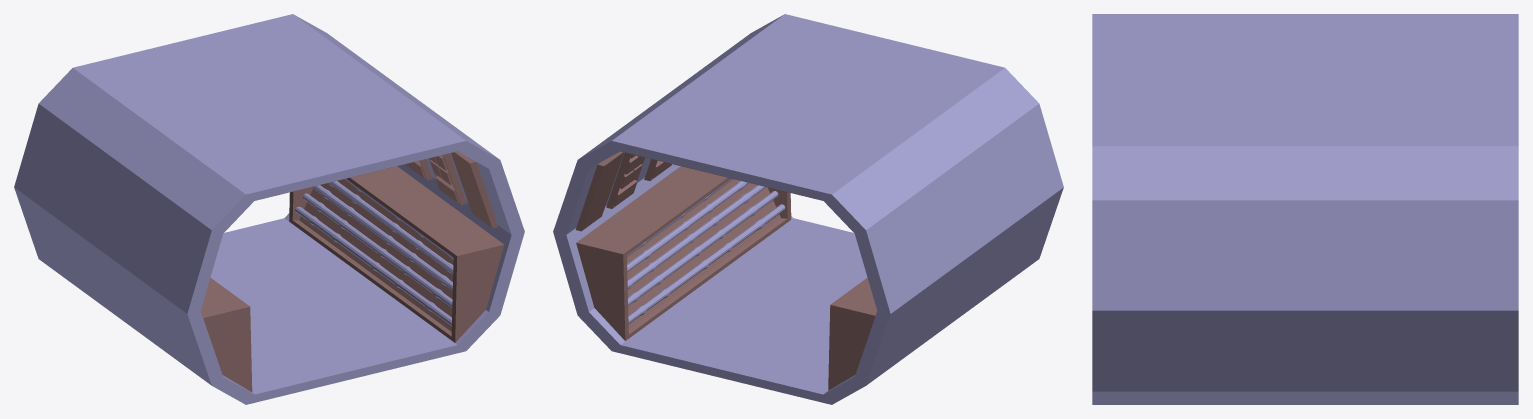
Rendered from corridor_main.fbx.
3 views of the same model, side by side, from view 1: azimuth 30°, elevation 25°; view 2: azimuth 150°, elevation 25°; view 3: azimuth 270°, elevation 25° (orthographic). The views are drawn at different scales.
Parts seen in each view (by area): view 1: full_export; view 2: full_export; view 3: full_export.
Part boxes in pixels (x1,y1,x2,y2): full_export: [14, 14, 524, 404]; full_export: [553, 14, 1063, 404]; full_export: [1092, 14, 1518, 404].
Bounding box in the file's own units: 50.2 × 29.9 × 44.64.
